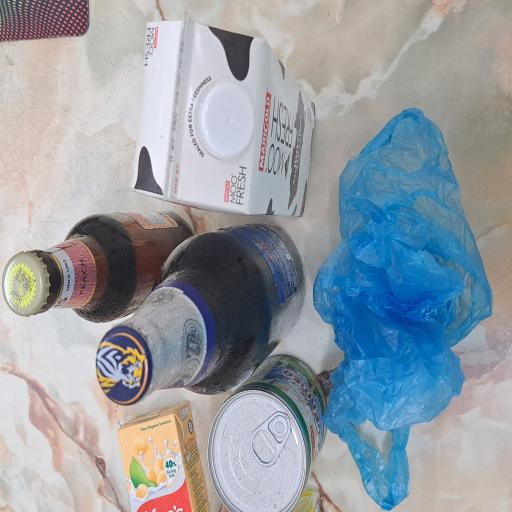can: (185, 0, 304, 158)
drink carton: (196, 293, 381, 498), (300, 0, 394, 114)
glass bottle: (208, 107, 416, 291), (320, 187, 510, 301)
plastic bag: (18, 0, 202, 406)
plastic bottle cap: (254, 352, 318, 433)
pop tab: (222, 44, 263, 101)
